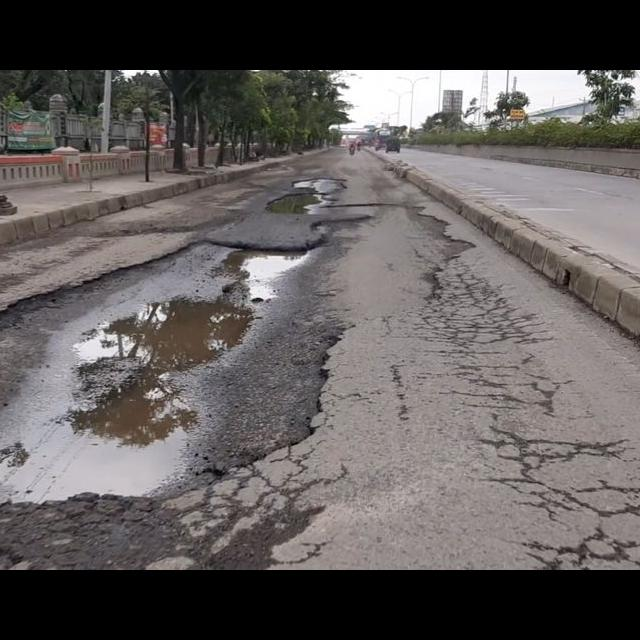lubang_kecil: (0, 230, 360, 507), (259, 168, 371, 231)
retak_kulit_buaya: (441, 367, 640, 570), (415, 259, 552, 353)
